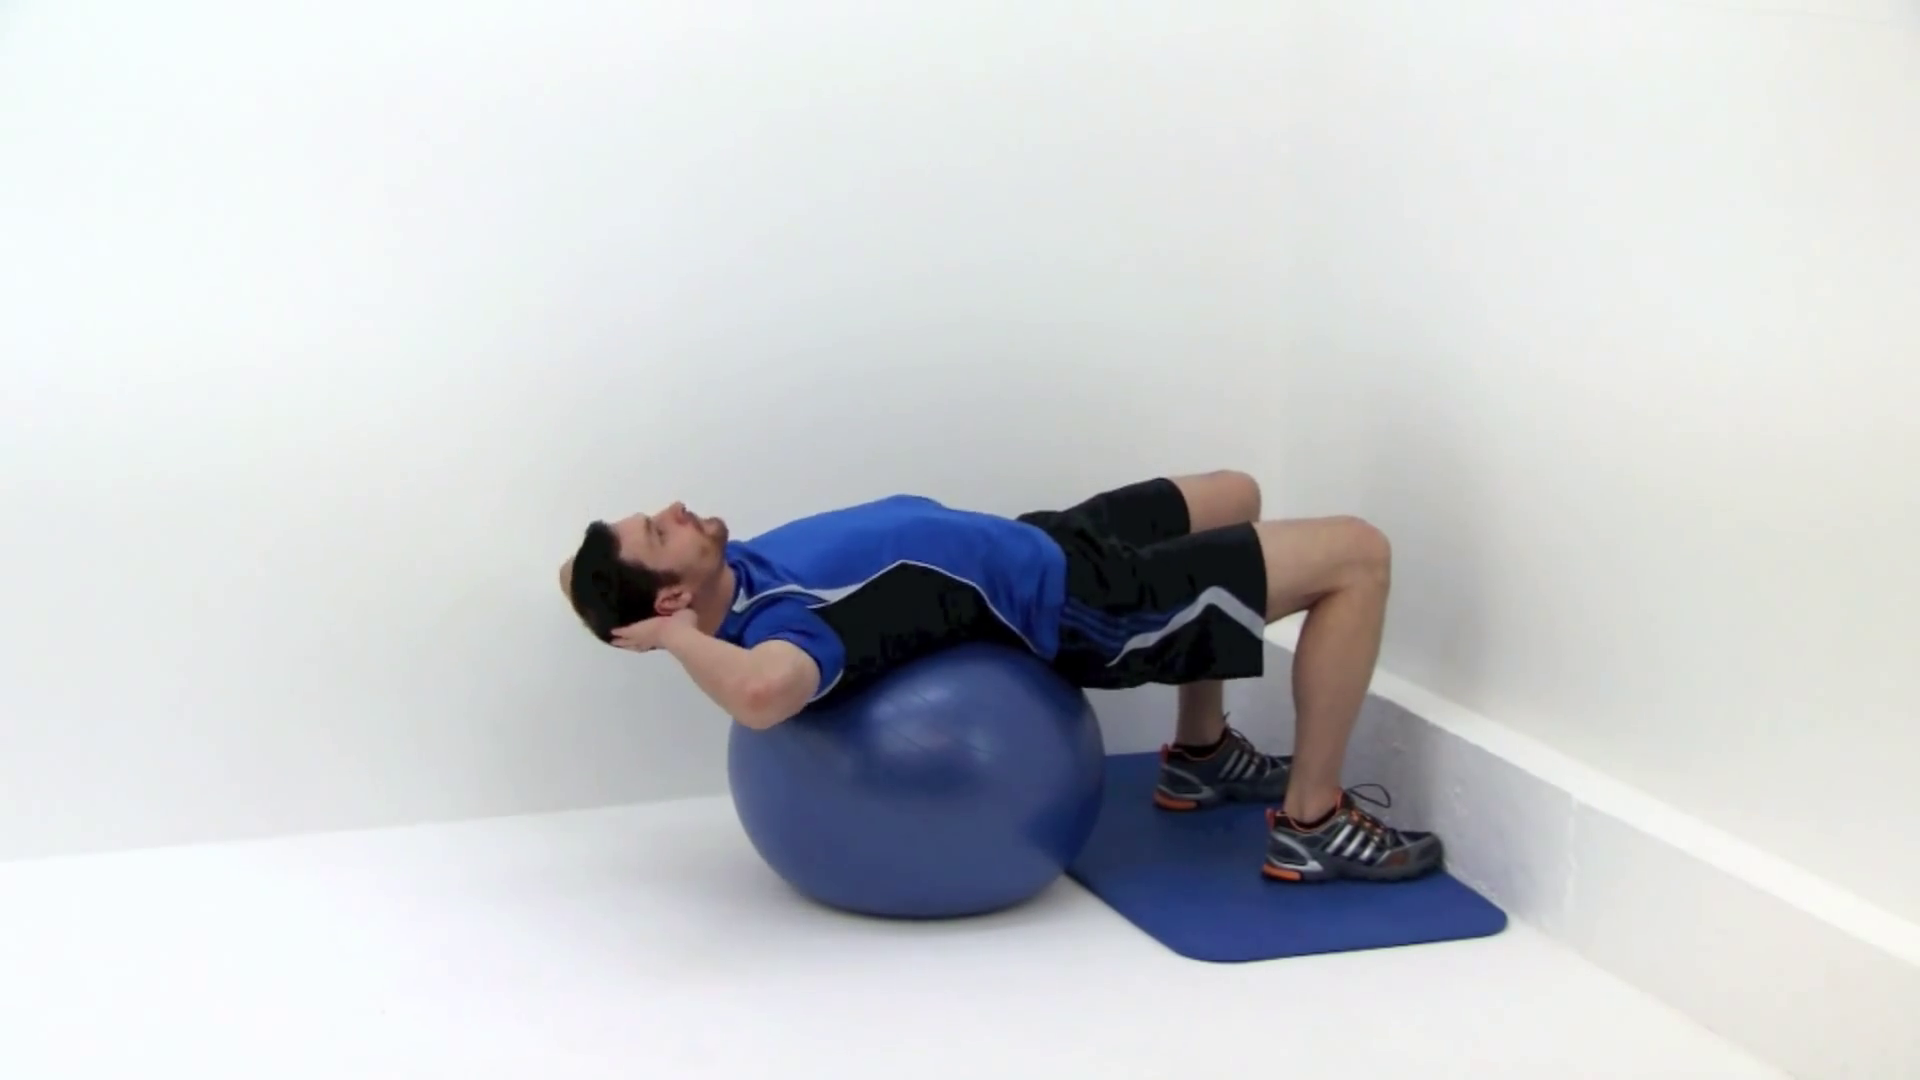yogaball: (719, 646, 1108, 942)
